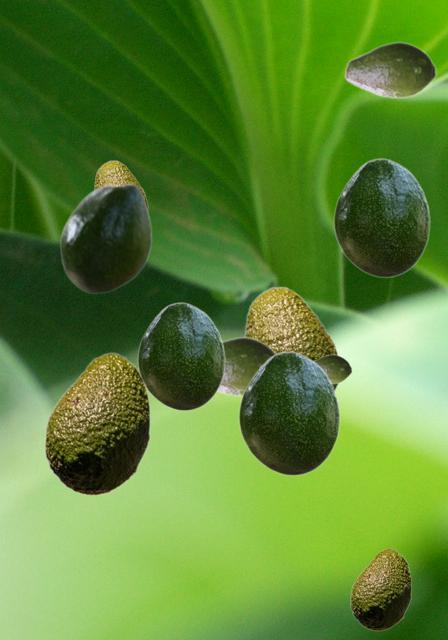avocado: (44, 352, 149, 495), (238, 351, 339, 475), (333, 158, 429, 277), (59, 182, 151, 293), (242, 286, 339, 390), (137, 302, 224, 410), (344, 41, 436, 98), (350, 548, 410, 630), (218, 336, 276, 396), (93, 160, 147, 204), (315, 354, 351, 383)
